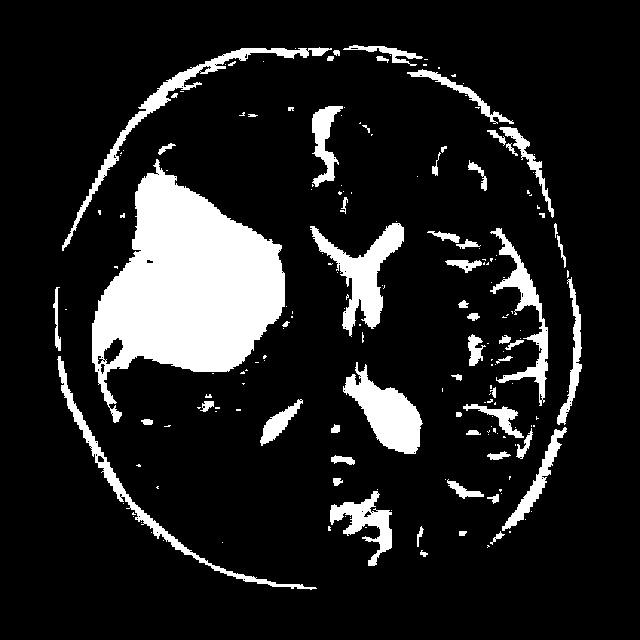Brain-Tumor: (86, 157, 294, 416)
